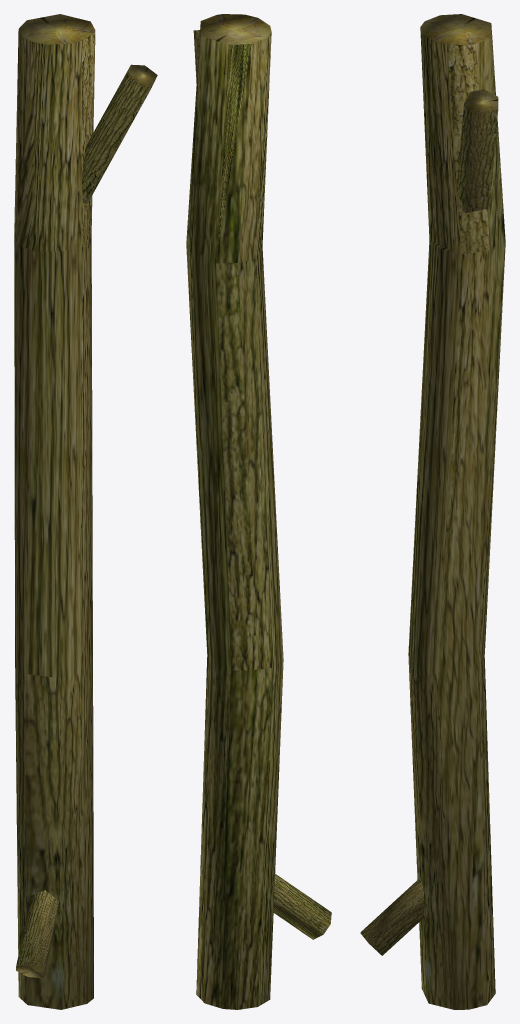
The model's file is stick.fbx.
The picture shows the model from 3 angles, left to right: view 1: azimuth 30°, elevation 25°; view 2: azimuth 150°, elevation 25°; view 3: azimuth 330°, elevation 25°; orthographic projection.
Parts seen in each view (by area): view 1: Cylinder.002; view 2: Cylinder.002; view 3: Cylinder.002.
Part boxes in pixels (bbox=[...]): Cylinder.002: bbox=[14, 14, 157, 1009]; Cylinder.002: bbox=[186, 14, 331, 1009]; Cylinder.002: bbox=[360, 14, 505, 1009].
Bounding box in the file's own units: 12.94 × 85.63 × 10.43.
1 material, 1 textured.
